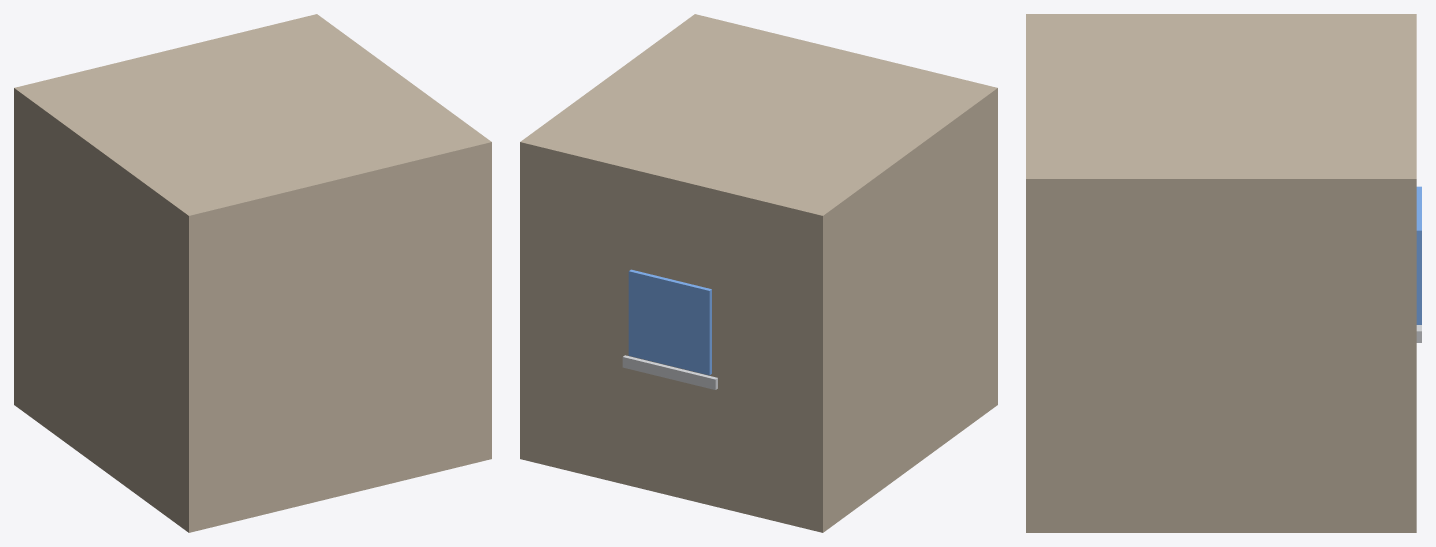
File: mail_pkg_l.glb
The picture shows the model from 3 angles, left to right: view 1: azimuth 30°, elevation 25°; view 2: azimuth 150°, elevation 25°; view 3: azimuth 270°, elevation 25°; orthographic projection. The views are drawn at different scales.
Parts seen in each view (by area): view 1: mail_pkg_l; view 2: mail_pkg_l; view 3: mail_pkg_l.
Boxes of the visible parts, <box> form: mail_pkg_l: <box>14,14,491,532</box>; mail_pkg_l: <box>520,14,997,532</box>; mail_pkg_l: <box>1026,14,1421,532</box>.
Bounding box in the file's own units: 0.6 × 0.6 × 0.608.
